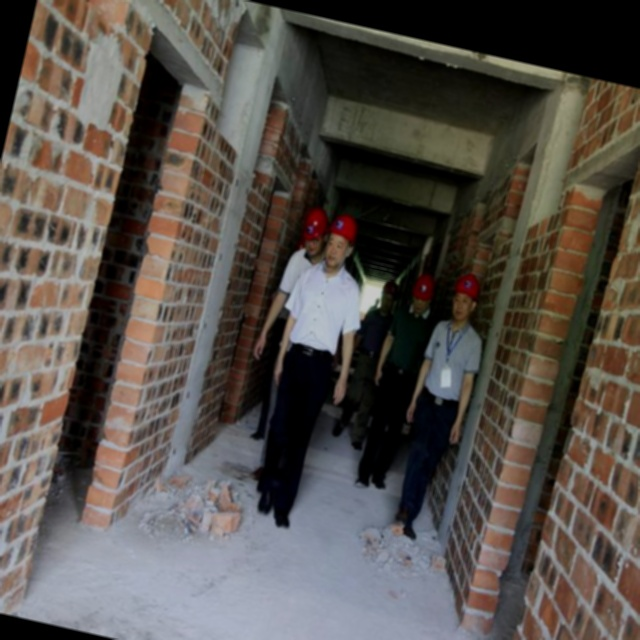Con_Casco: (320, 213, 360, 270)
